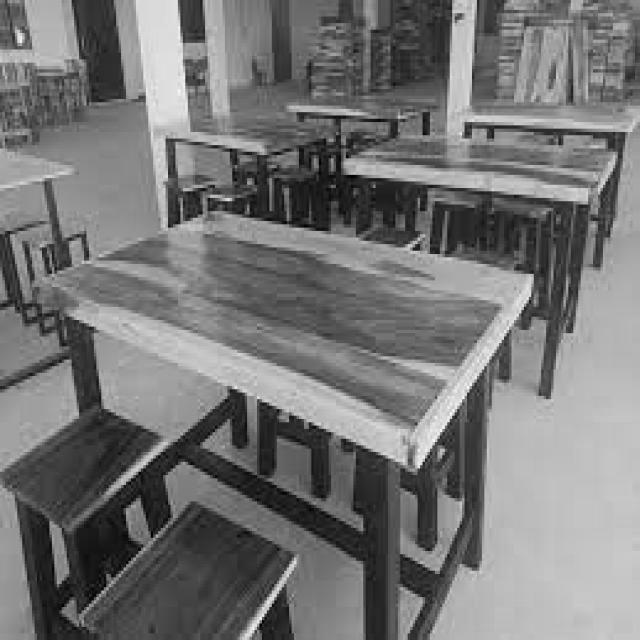table: (44, 207, 532, 466), (336, 110, 618, 212), (159, 94, 334, 188)
